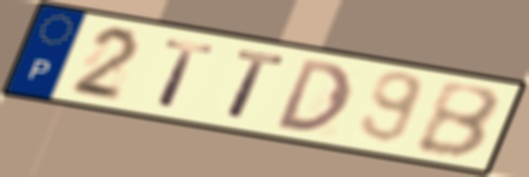2: (66, 25, 143, 105)
9: (357, 68, 427, 150)
B: (412, 81, 504, 162)
D: (274, 56, 356, 135)
T: (224, 47, 290, 123), (155, 37, 219, 111)
